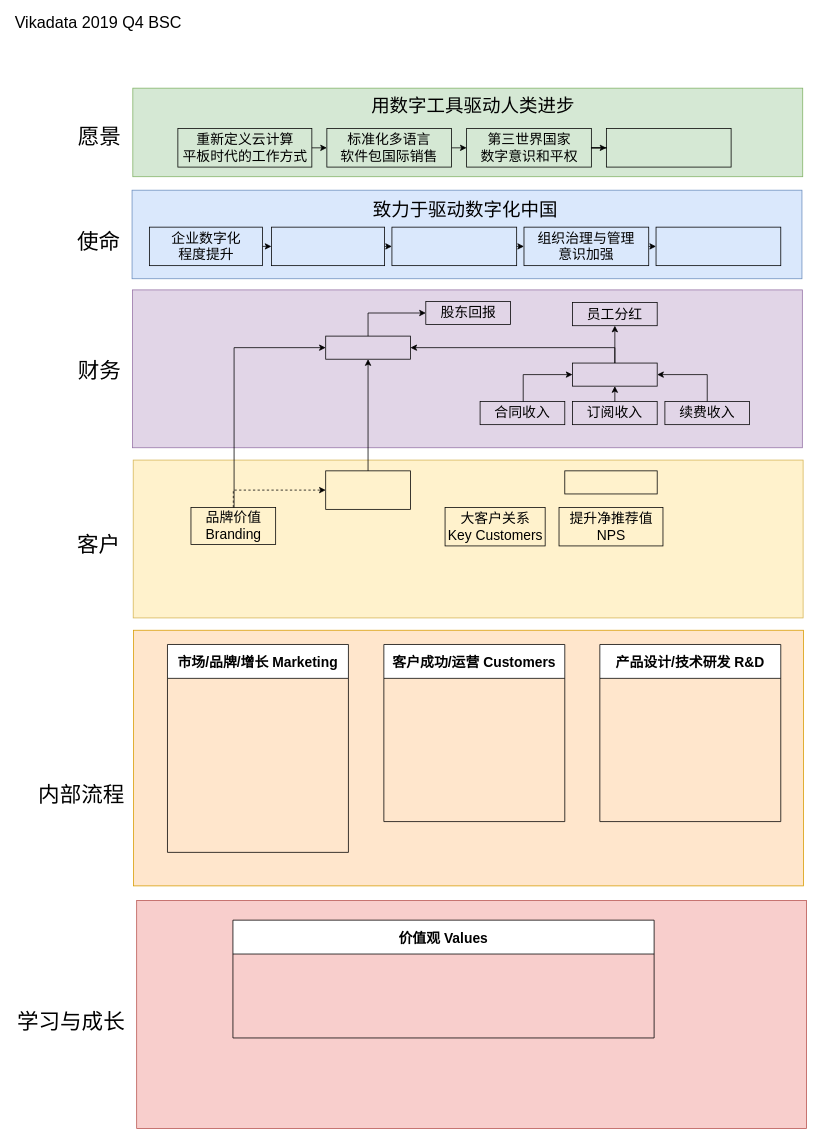
The diagram is 820 pixels wide and 1142 high, and some of its shapes have lost their labels. Here are the shapes that lost their labels. From the top down, the box of each, then its label:
(606, 128, 731, 167): 无国界地驱动人类 生活和工作更容易
(271, 226, 385, 266): 数字企业 数量提升
(391, 226, 517, 266): 普通人 日常数据意识加强
(655, 226, 781, 266): 符合国家战略 提升人均GDP
(325, 335, 410, 359): 公司估值
(572, 362, 657, 386): 营业收入
(325, 470, 410, 509): 用户增长 Growing
(564, 470, 657, 494): 降低流失率
